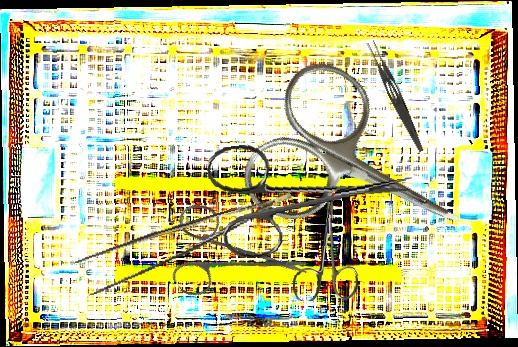Dressing Forceps: (363, 38, 430, 154)
Iris Scissors: (229, 49, 498, 295), (204, 125, 420, 262), (143, 169, 312, 340), (292, 190, 362, 303)
Tissue Forceps: (67, 192, 303, 299)
